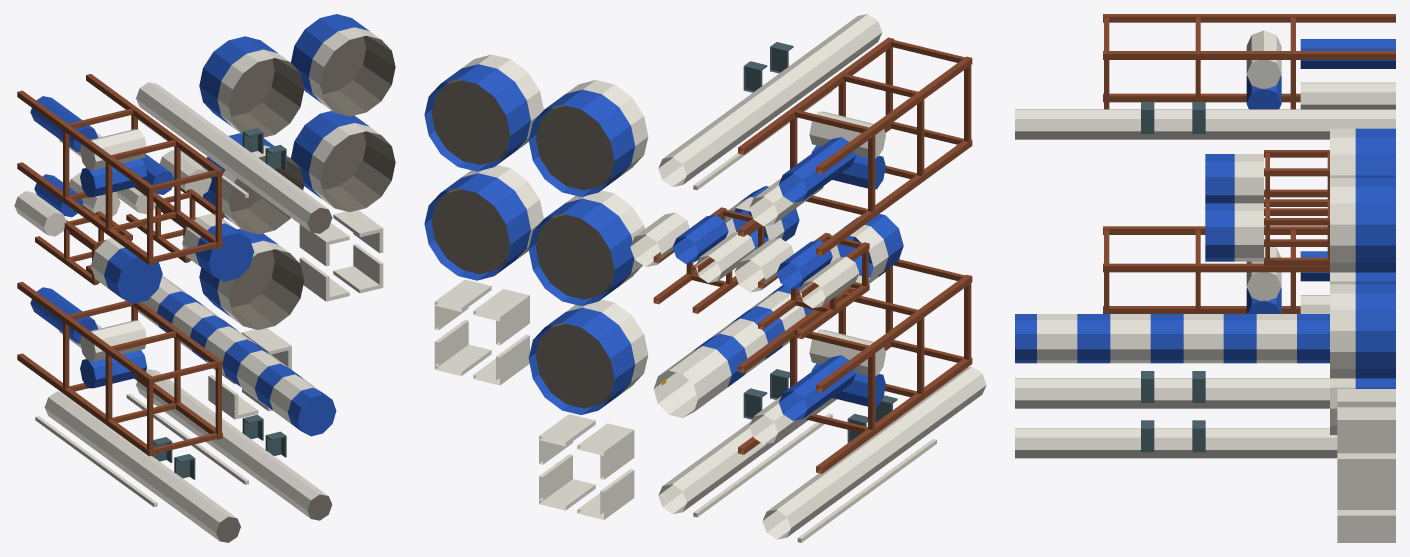
Rendered from construction_1.glb.
3 views of the same model, side by side, from view 1: azimuth 30°, elevation 25°; view 2: azimuth 150°, elevation 25°; view 3: azimuth 270°, elevation 25° (orthographic). The views are drawn at different scales.
Parts seen in each view (by area): view 1: t03_g21.001, t01_g21.001, t11_g19.001, t00_g20.001, t13_g20.001, t33_g18.001, t23_g18.001, t32_g18.001, t02_g22.001, t10_g20.001, t12_g22.001, t21_g18.001 (+3 smaller); view 2: t03_g21.001, t01_g21.001, t13_g20.001, t00_g20.001, t23_g18.001, t21_g18.001, t33_g18.001, t32_g18.001, t02_g22.001, t22_g18.001, t12_g22.001, t11_g19.001 (+3 smaller); view 3: t11_g19.001, t03_g21.001, t13_g20.001, t10_g20.001, t00_g20.001, t01_g21.001, t32_g18.001, t33_g18.001, t12_g22.001, t31_g23.001, t02_g22.001, t20_g23.001 (+3 smaller).
Boxes of the visible parts, <box> form: t03_g21.001: <box>17,74,222,265</box>; t01_g21.001: <box>17,265,222,456</box>; t11_g19.001: <box>131,275,336,436</box>; t00_g20.001: <box>35,391,240,542</box>; t13_g20.001: <box>136,82,332,233</box>; t33_g18.001: <box>291,14,395,116</box>; t23_g18.001: <box>199,36,304,137</box>; t32_g18.001: <box>291,111,395,212</box>; t02_g22.001: <box>14,172,162,303</box>; t10_g20.001: <box>126,369,332,520</box>; t12_g22.001: <box>115,150,253,281</box>; t21_g18.001: <box>199,228,304,329</box>; t03_g21.001: <box>738,37,972,255</box>; t01_g21.001: <box>738,259,972,473</box>; t13_g20.001: <box>658,14,882,190</box>; t00_g20.001: <box>762,366,986,542</box>; t23_g18.001: <box>528,80,648,196</box>; t21_g18.001: <box>528,299,648,414</box>; t33_g18.001: <box>424,54,543,171</box>; t32_g18.001: <box>424,165,543,280</box>; t02_g22.001: <box>734,214,903,339</box>; t22_g18.001: <box>528,190,644,305</box>; t12_g22.001: <box>630,186,799,313</box>; t11_g19.001: <box>653,270,885,417</box>; t11_g19.001: <box>1015,314,1329,363</box>; t03_g21.001: <box>1103,14,1395,109</box>; t13_g20.001: <box>1015,102,1395,139</box>; t10_g20.001: <box>1015,420,1337,458</box>; t00_g20.001: <box>1015,371,1329,408</box>; t01_g21.001: <box>1103,226,1329,313</box>; t32_g18.001: <box>1330,284,1395,378</box>; t33_g18.001: <box>1330,178,1395,272</box>; t12_g22.001: <box>1205,199,1329,265</box>; t31_g23.001: <box>1337,389,1395,486</box>; t02_g22.001: <box>1205,150,1329,215</box>; t20_g23.001: <box>1337,486,1395,542</box>.
Bounding box in the file's own units: 61.6 × 59.45 × 52.
